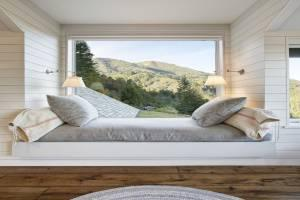window: (66, 34, 222, 122)
